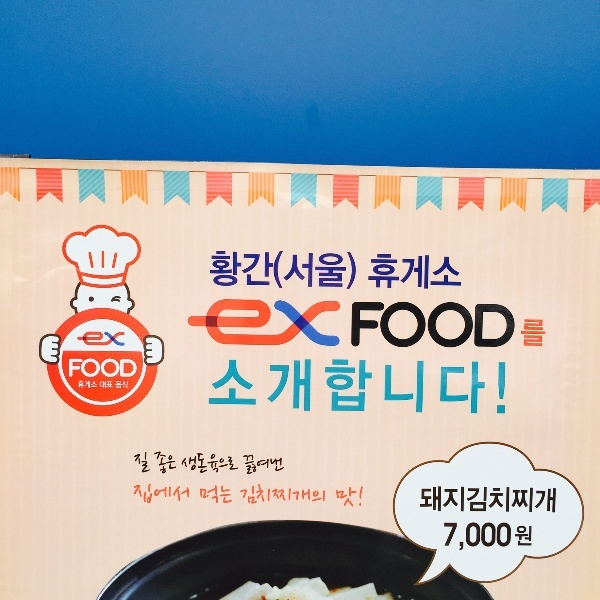text: (225, 358, 240, 416), (241, 358, 256, 416), (257, 358, 272, 416), (273, 358, 288, 416), (289, 358, 304, 416), (305, 358, 320, 416), (321, 358, 336, 416), (337, 358, 352, 416), (353, 358, 368, 416), (369, 358, 384, 416), (385, 358, 400, 416), (401, 358, 416, 416), (417, 358, 432, 416), (433, 358, 448, 416), (449, 358, 464, 416), (465, 358, 480, 416), (481, 358, 496, 416), (193, 299, 208, 351), (209, 299, 224, 351), (225, 299, 240, 351), (241, 299, 256, 351), (257, 299, 272, 351), (273, 299, 288, 351), (289, 299, 304, 351), (305, 299, 320, 351), (321, 299, 336, 351), (353, 302, 368, 349), (369, 302, 384, 349), (385, 302, 400, 349), (401, 302, 416, 349), (417, 302, 432, 349), (433, 302, 448, 349), (449, 302, 464, 349), (465, 302, 480, 349), (481, 302, 496, 349), (497, 302, 512, 349), (225, 251, 240, 290), (241, 251, 256, 290), (257, 251, 272, 290), (273, 251, 288, 290), (289, 251, 304, 290), (305, 251, 320, 290), (321, 251, 336, 290), (337, 251, 352, 290), (214, 358, 224, 416), (210, 251, 224, 290), (385, 254, 400, 290), (401, 254, 416, 290), (417, 254, 432, 290), (433, 254, 448, 290), (449, 254, 464, 290), (497, 358, 506, 416), (372, 254, 384, 290), (529, 319, 544, 347), (449, 524, 464, 552), (465, 524, 480, 552), (481, 524, 496, 552), (497, 524, 512, 552), (513, 524, 528, 552), (433, 487, 448, 514), (449, 487, 464, 514), (465, 487, 480, 514), (481, 487, 496, 514), (497, 487, 512, 514), (513, 487, 528, 514), (529, 487, 544, 514), (145, 451, 160, 477), (161, 451, 176, 477), (177, 451, 192, 477), (193, 451, 208, 477), (209, 451, 224, 477), (225, 451, 240, 477), (241, 451, 256, 477), (257, 451, 272, 477), (241, 484, 256, 507), (257, 484, 272, 507), (273, 484, 288, 507), (289, 484, 304, 507), (305, 484, 320, 507), (337, 486, 352, 509), (545, 487, 557, 514), (145, 484, 160, 505), (161, 484, 176, 505), (209, 485, 224, 506), (273, 451, 284, 477), (81, 359, 96, 378), (97, 359, 112, 378), (113, 359, 128, 378), (177, 484, 190, 505), (422, 487, 432, 514), (134, 451, 144, 477), (81, 331, 96, 348), (97, 331, 112, 348), (353, 486, 363, 509), (69, 359, 80, 378), (337, 299, 341, 351), (113, 331, 125, 348), (135, 484, 144, 505), (225, 485, 233, 506), (129, 359, 137, 378), (201, 485, 208, 506), (513, 302, 516, 349), (523, 319, 528, 347), (353, 251, 356, 290), (321, 484, 326, 507), (444, 524, 448, 552), (529, 524, 533, 552), (81, 381, 96, 388), (190, 299, 192, 351), (116, 381, 128, 389), (101, 381, 112, 389), (351, 302, 352, 349), (465, 254, 466, 290), (545, 319, 546, 347), (335, 486, 336, 509), (79, 331, 80, 348), (79, 381, 80, 388), (97, 381, 98, 388)
